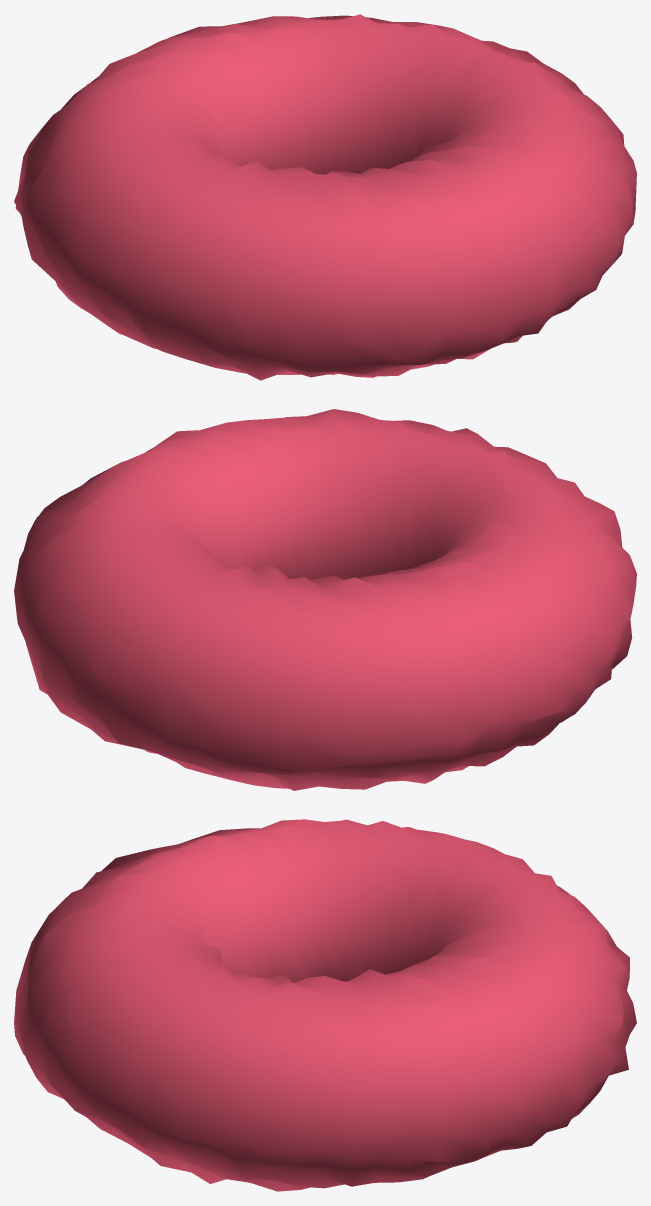
File: cereal_pink.obj
3 views of the same model, one above another, from view 1: azimuth 30°, elevation 25°; view 2: azimuth 150°, elevation 25°; view 3: azimuth 270°, elevation 25° (orthographic).
Size of the model in its own units: 1.54 by 0.5621 by 1.55.
